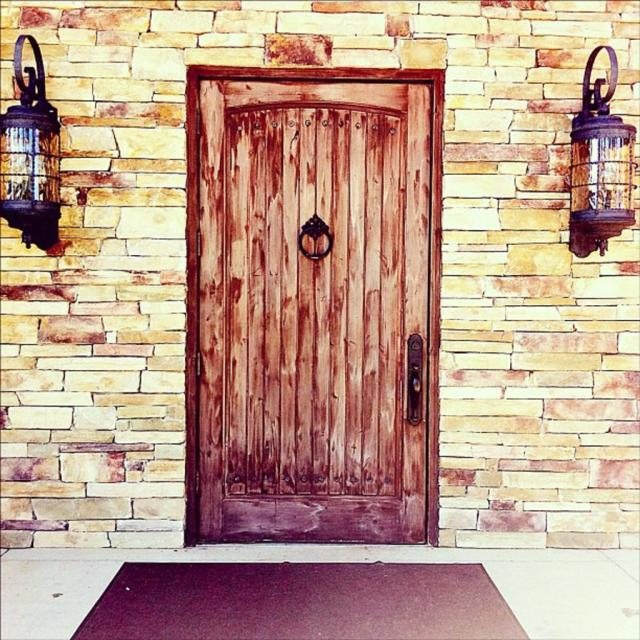door_local: (186, 61, 444, 552)
